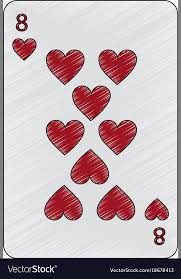eight of hearts: (7, 8, 177, 253)
